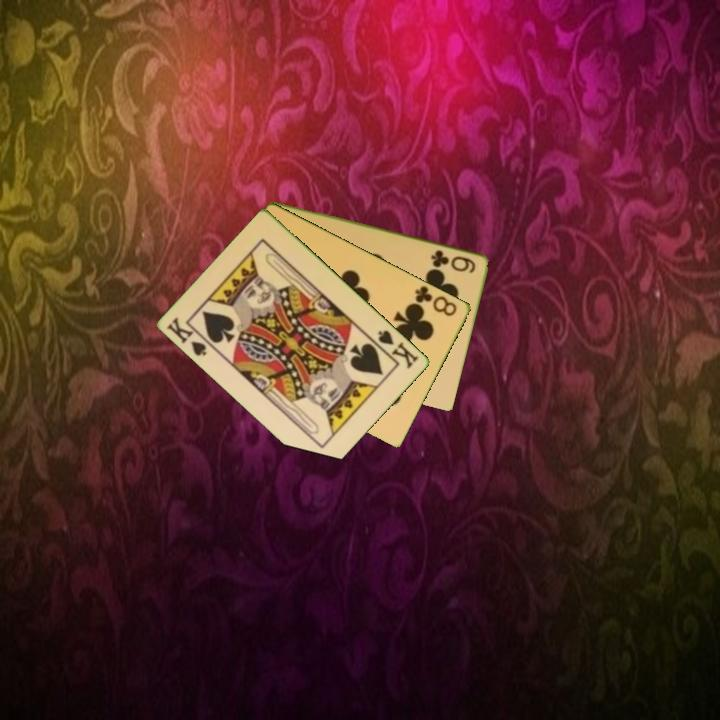6c: (427, 246, 479, 276)
8c: (412, 282, 460, 319)
Ks: (163, 313, 217, 359), (369, 326, 422, 372)
